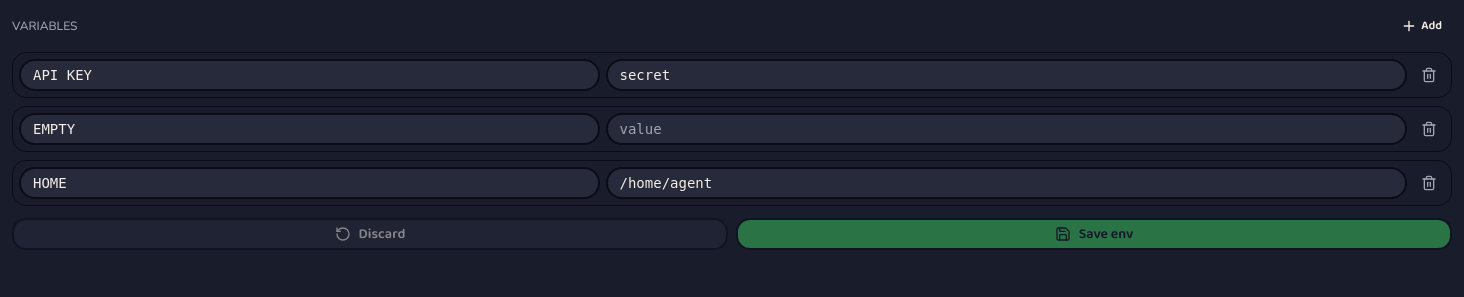
Test case: AgentEnvEditor › shows values and saves only the changed entries
Expected: the field named "Value for HOME" holds "/home/agent", [606,167,1407,199]
Replace the text in the field named "Value for API_KEY" with "rotated": (1006, 75) [606,59,1407,91]
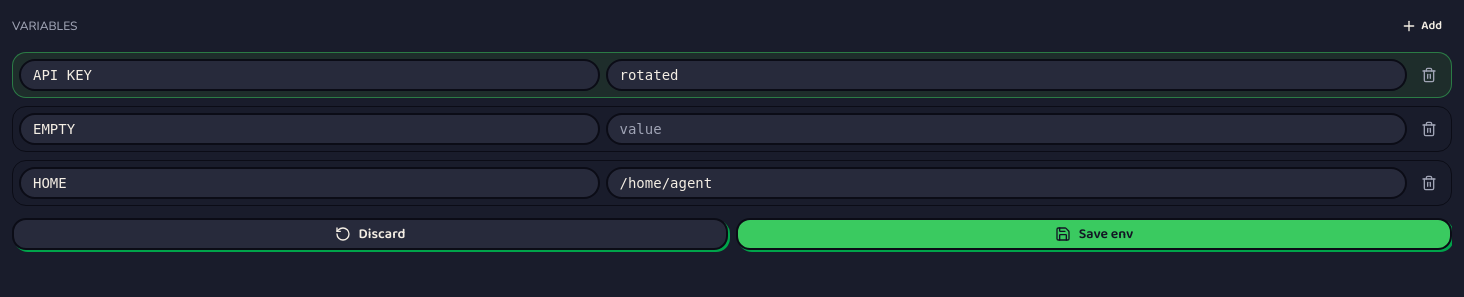
Click the button named "Remove EMPTY": click(1429, 129) [1413,113,1445,145]
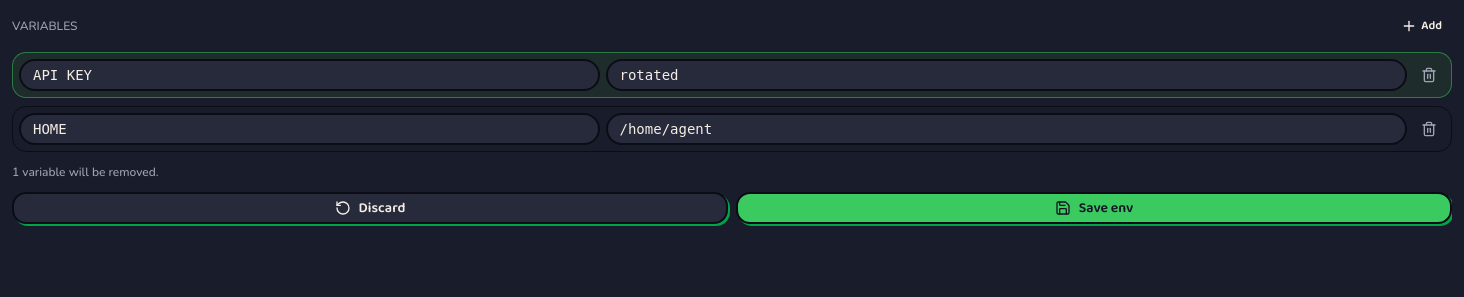
Click the button "Add": click(1422, 26) [1391,12,1452,40]
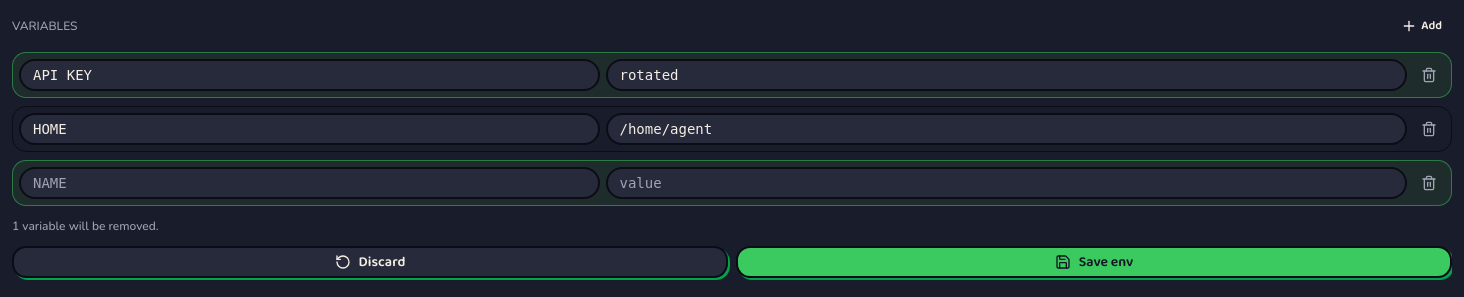
In the field named "Variable name": (309, 183) [19,167,600,199], type "NEW_VAR"
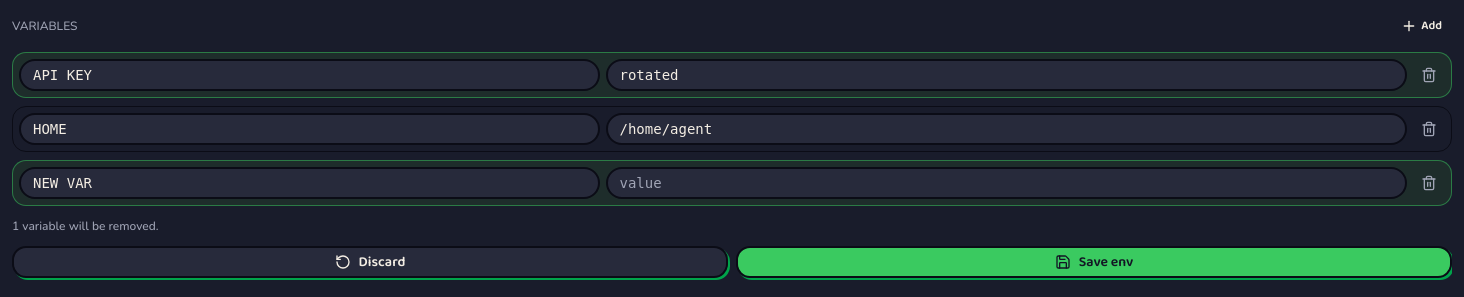
In the field named "Value for NEW_VAR": (1006, 183) [606,167,1407,199], type "x"
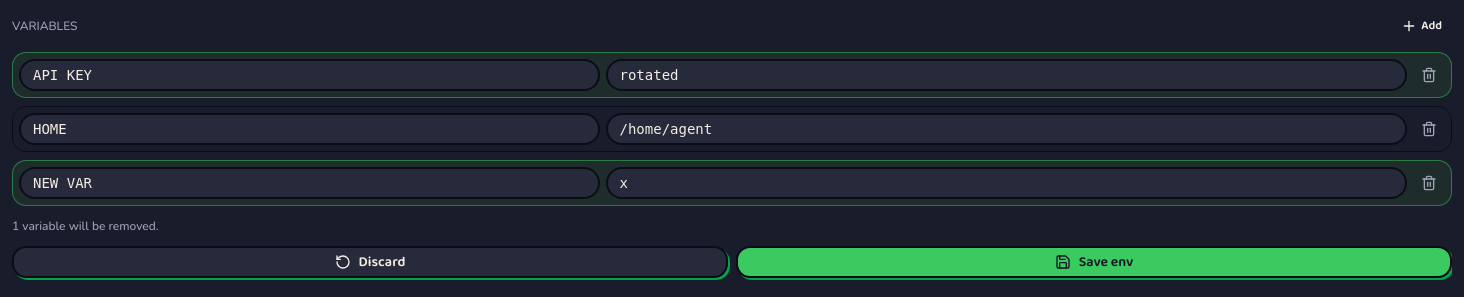
Click the button "Save env": click(1094, 262) [736,246,1452,278]
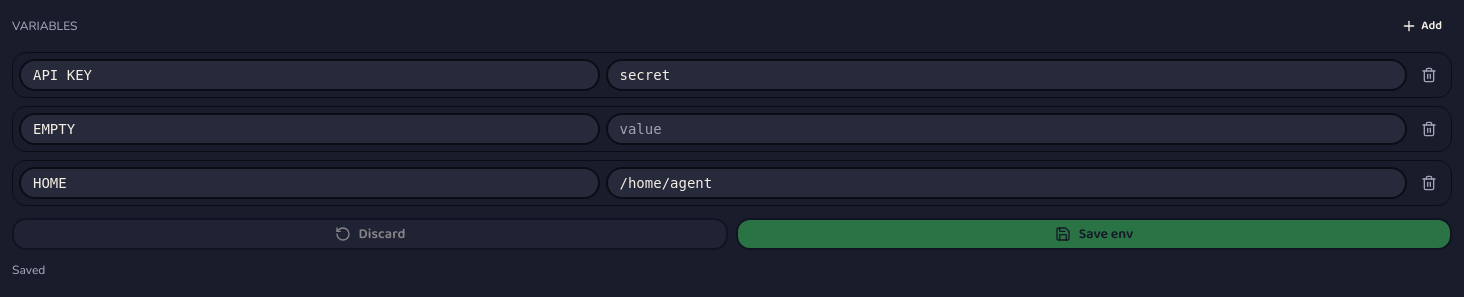
Now the text "Saved" is shown, box [12,262,45,278]
